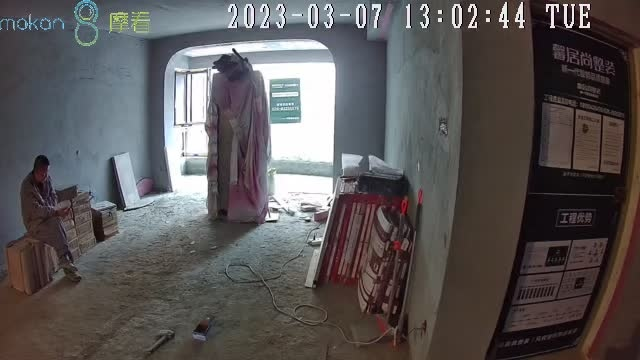people: (21, 155, 83, 283)
window: (187, 59, 336, 160)
